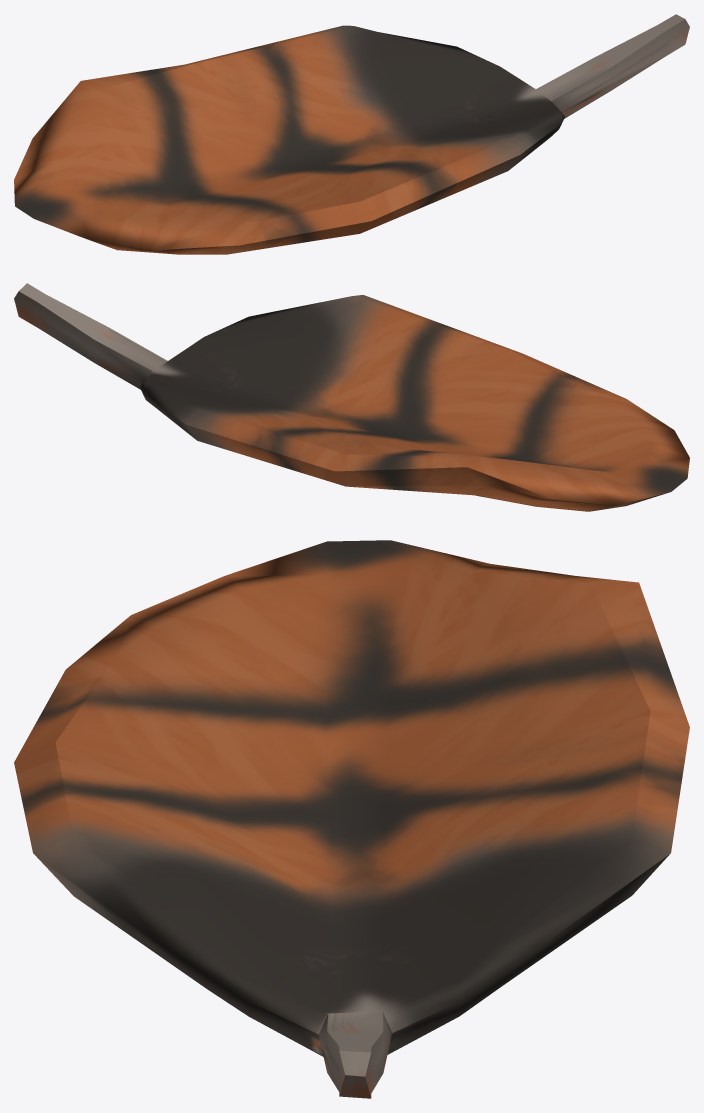
Rendered from feather4.fbx.
3 renders of one model, top to bottom at view 1: azimuth 30°, elevation 25°; view 2: azimuth 150°, elevation 25°; view 3: azimuth 270°, elevation 25°, orthographic. The views are drawn at different scales.
Visible parts, largest first — view 1: pCube5; view 2: pCube5; view 3: pCube5.
Part boxes in pixels (left/top/right/bottom): pCube5: left=14, top=14, right=689, bottom=254; pCube5: left=14, top=283, right=689, bottom=511; pCube5: left=14, top=540, right=689, bottom=1098.
Size of the model in its own units: 2.57 by 0.3763 by 1.26.
1 material, 1 textured.
